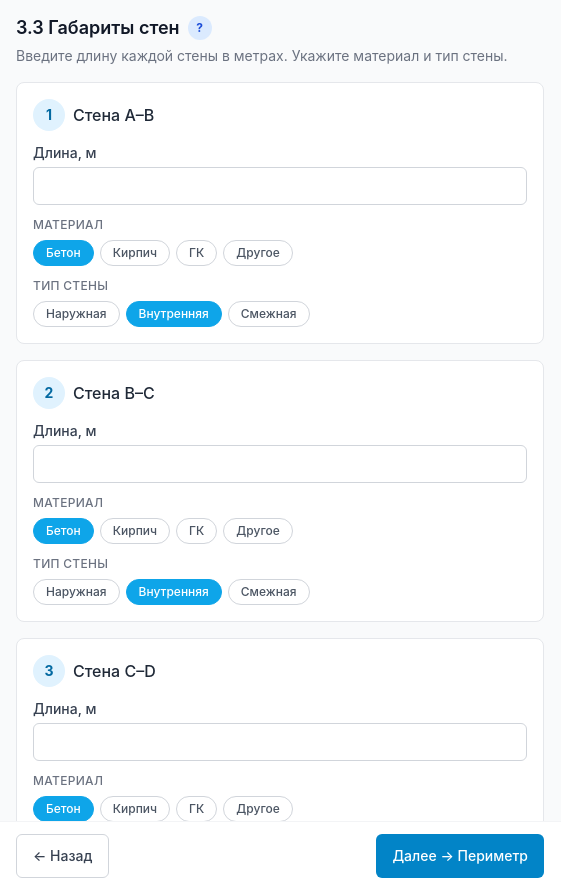
WallDimensionsStep › shows validation error for zero-length wall
Submit without filling lengths
Click the button "Далее → Периметр" at (460, 856), box [376, 834, 544, 878]
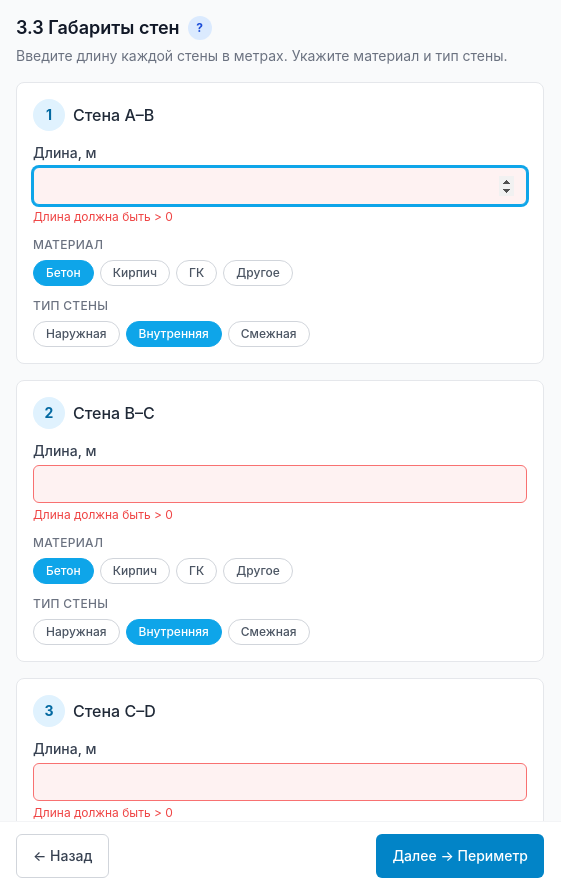
Expected: the 1st text "Длина должна быть > 0" is shown, [33, 209, 173, 224]
